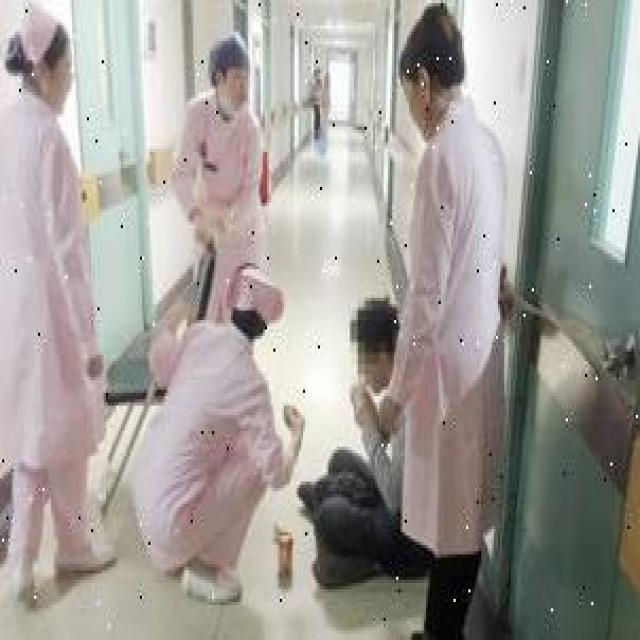fall: (308, 292, 418, 576)
